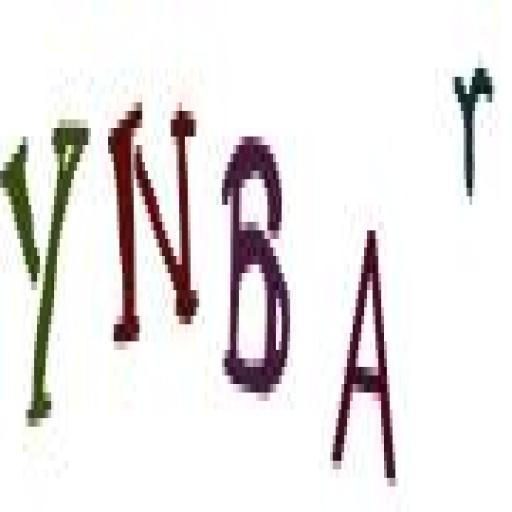A: (327, 211, 401, 488)
B: (215, 117, 294, 417)
N: (103, 90, 203, 370)
Y: (0, 94, 94, 444)
r: (450, 51, 497, 207)
